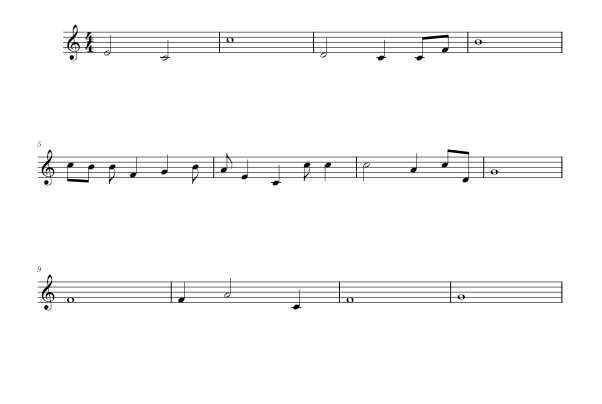Treble Clef: (63, 21, 83, 65), (37, 148, 56, 189), (37, 273, 56, 314)
